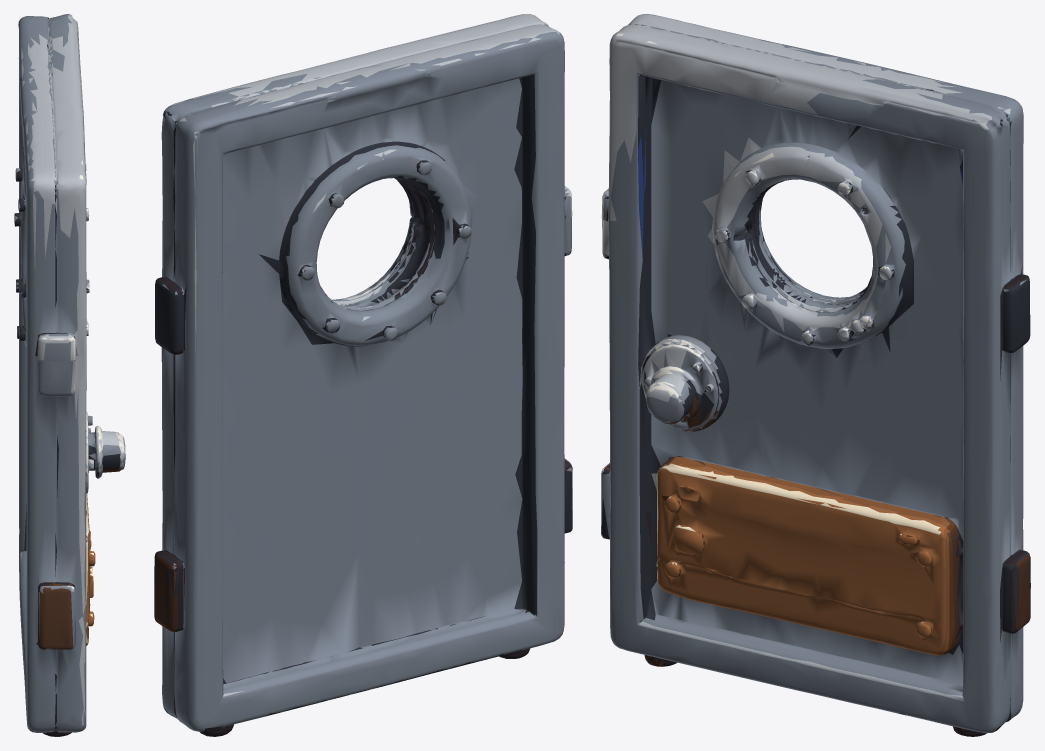
Rendered from SM_door_metal.glb.
3 renders of one model, left to right at view 1: azimuth 30°, elevation 25°; view 2: azimuth 150°, elevation 25°; view 3: azimuth 270°, elevation 25°, orthographic. The views are drawn at different scales.
Parts seen in each view (by area): view 1: SM_door_metal; view 2: SM_door_metal; view 3: SM_door_metal.
Part boxes in pixels (x1,y1,x2,y2): SM_door_metal: (14, 14, 125, 736); SM_door_metal: (154, 14, 572, 736); SM_door_metal: (601, 14, 1030, 736).
Bounding box in the file's own units: 0.7611 × 2 × 1.23.
1 material, 1 textured.
